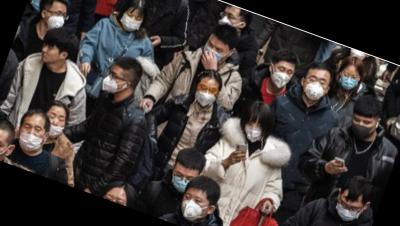mask_weared_incorrect: (39, 108, 69, 141)
with_mask: (174, 189, 211, 226), (13, 118, 49, 156), (300, 72, 331, 104), (346, 114, 379, 144), (333, 196, 366, 226), (191, 80, 222, 111), (168, 167, 200, 196), (268, 61, 297, 92), (200, 38, 231, 66), (240, 116, 269, 145), (98, 66, 125, 97), (117, 8, 146, 35), (335, 68, 364, 94), (45, 5, 70, 34), (215, 8, 243, 32)
without_mask: (36, 40, 62, 67)
